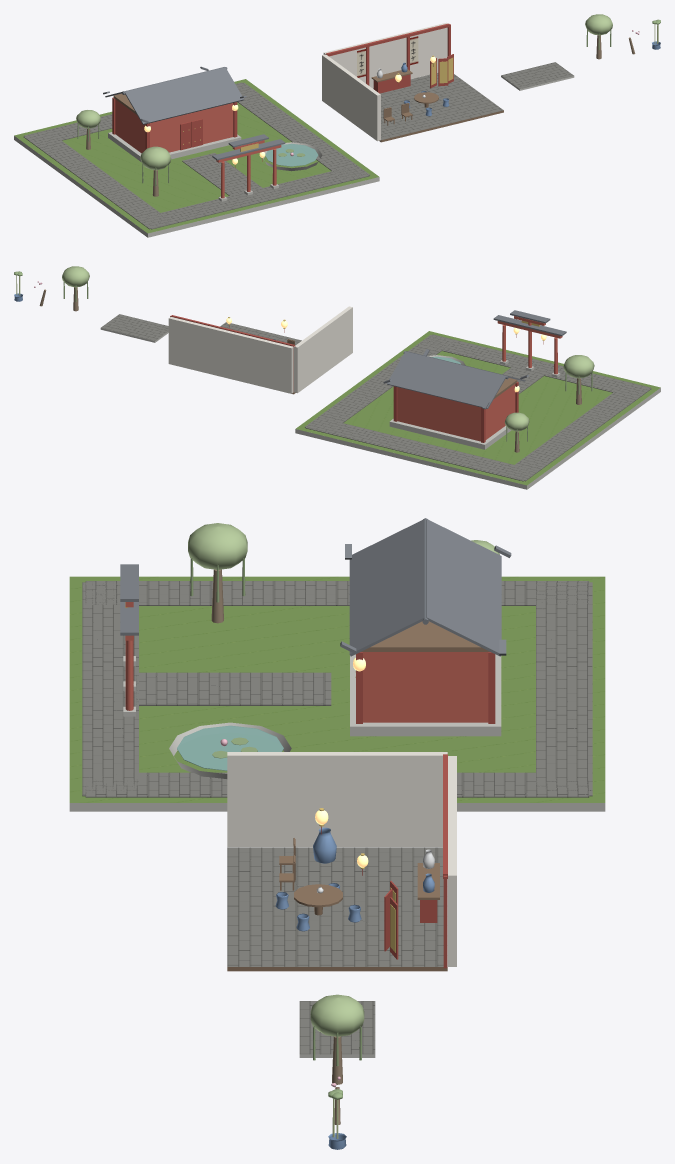
File: kit-36-diorama-cina.glb
3 renders of one model, top to bottom at view 1: azimuth 30°, elevation 25°; view 2: azimuth 150°, elevation 25°; view 3: azimuth 270°, elevation 25°, orthographic. The views are drawn at different scales.
Parts seen in each view (by area): view 1: CinaDio_Eksterior, CinaDio_InteriorLengkap, CinaDio_JalanBata, CinaDio_TanamanKhas; view 2: CinaDio_Eksterior, CinaDio_InteriorLengkap, CinaDio_JalanBata, CinaDio_TanamanKhas; view 3: CinaDio_Eksterior, CinaDio_InteriorLengkap, CinaDio_TanamanKhas, CinaDio_JalanBata.
Boxes of the visible parts, bbox=[...] form: CinaDio_Eksterior: bbox=[14, 66, 379, 237]; CinaDio_InteriorLengkap: bbox=[322, 22, 503, 142]; CinaDio_JalanBata: bbox=[501, 62, 574, 90]; CinaDio_TanamanKhas: bbox=[585, 14, 660, 59]; CinaDio_Eksterior: bbox=[295, 310, 660, 489]; CinaDio_InteriorLengkap: bbox=[168, 306, 352, 394]; CinaDio_JalanBata: bbox=[100, 314, 168, 342]; CinaDio_TanamanKhas: bbox=[14, 266, 89, 311]; CinaDio_Eksterior: bbox=[69, 518, 605, 811]; CinaDio_InteriorLengkap: bbox=[227, 752, 456, 971]; CinaDio_TanamanKhas: bbox=[310, 994, 364, 1149]; CinaDio_JalanBata: bbox=[299, 1001, 375, 1057].
Bounding box in the file's own units: 42.54 × 4.57 × 17.
Materials: 21 (3 with a texture image).
